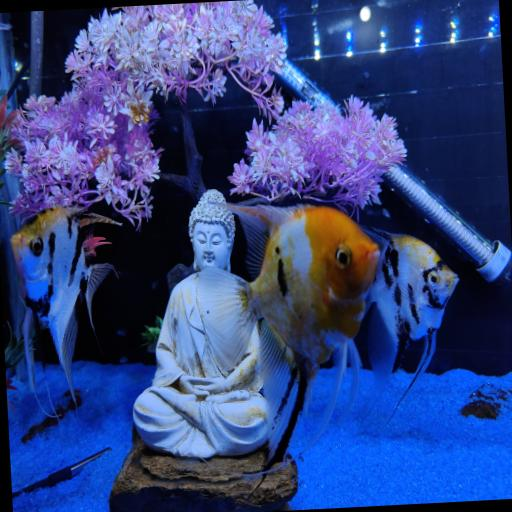Fish: (197, 204, 378, 461), (10, 207, 119, 401), (363, 227, 457, 409)
